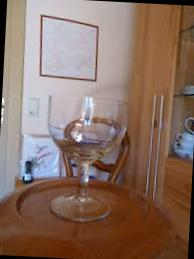glass: (25, 78, 136, 231)
